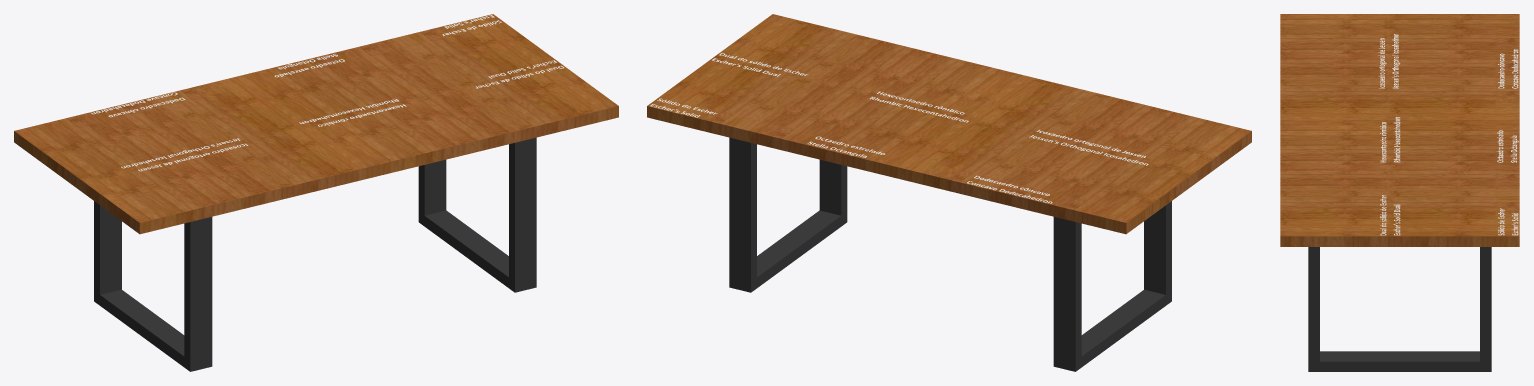
Rendered from mesa_nonConvex1.glb.
The picture shows the model from 3 angles, left to right: view 1: azimuth 30°, elevation 25°; view 2: azimuth 150°, elevation 25°; view 3: azimuth 270°, elevation 25°; orthographic projection. The views are drawn at different scales.
Parts seen in each view (by area): view 1: object 1, Composant#1 (×2), Icosaedro ortogo; view 2: object 1, Composant#1 (×2), Icosaedro ortogo; view 3: object 1, Composant#1, Icosaedro ortogo, Hexecontaedro rô, Dodecaedro cônca, Dual do sólido d, Octaedro estrela, Sólido de Escher.
Boxes of the visible parts, box(x1,y1,x2,y2) form: object 1: box(14, 14, 618, 234); Composant#1 (×2): box(94, 137, 536, 371); Icosaedro ortogo: box(121, 138, 248, 171); object 1: box(647, 14, 1251, 234); Composant#1 (×2): box(729, 137, 1171, 371); Icosaedro ortogo: box(1029, 129, 1148, 165); object 1: box(1280, 14, 1519, 246); Composant#1: box(1308, 247, 1491, 371); Icosaedro ortogo: box(1378, 34, 1400, 88); Hexecontaedro rô: box(1380, 117, 1400, 162); Dodecaedro cônca: box(1498, 49, 1518, 88); Dual do sólido d: box(1380, 195, 1400, 235); Octaedro estrela: box(1497, 130, 1518, 162); Sólido de Escher: box(1498, 208, 1518, 235).
Bounding box in the file's own units: 2.2 × 0.771 × 1.
Materials: 3 (1 with a texture image).
